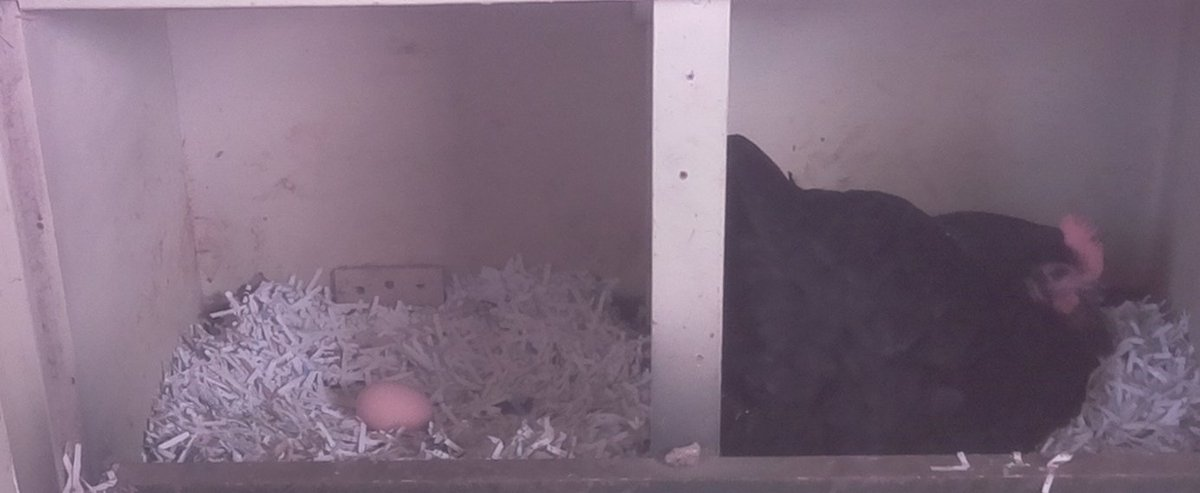egg: (350, 378, 439, 434)
hen: (729, 134, 1116, 459)
